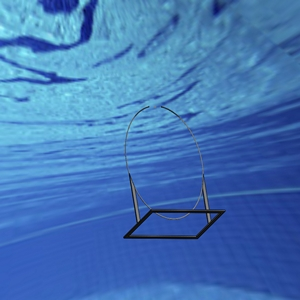circle: (122, 103, 226, 240)
